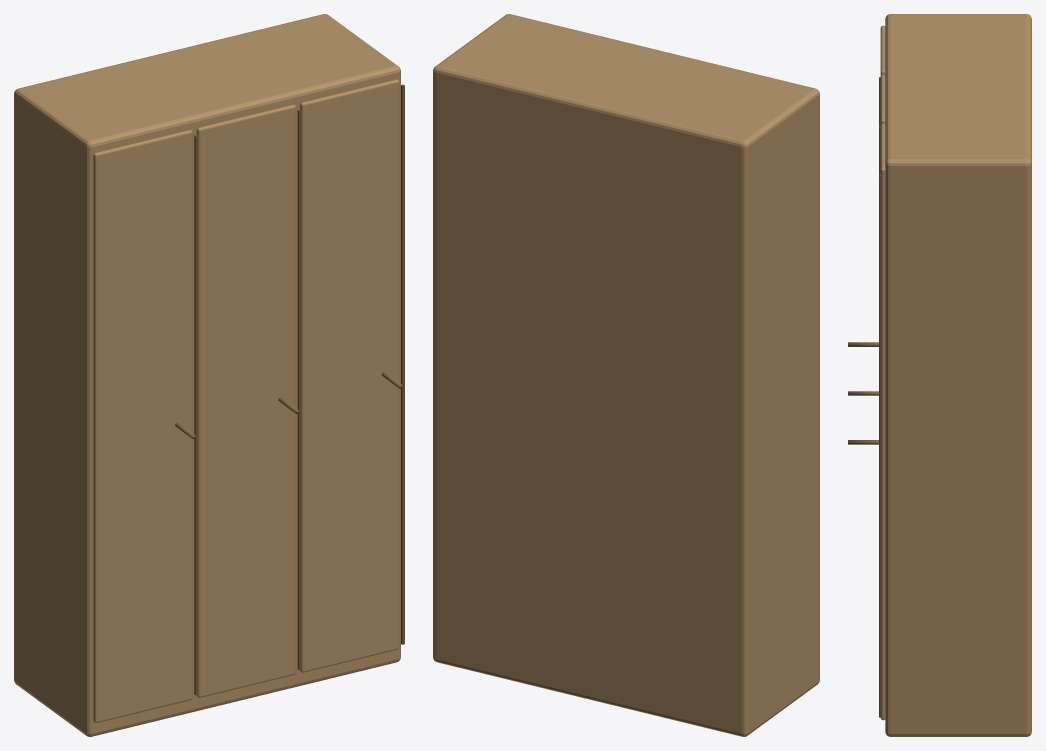
File: oak-wardrobe.glb
The picture shows the model from 3 angles, left to right: view 1: azimuth 30°, elevation 25°; view 2: azimuth 150°, elevation 25°; view 3: azimuth 270°, elevation 25°; orthographic projection. The views are drawn at different scales.
Parts seen in each view (by area): view 1: Wardrobe carcass; view 2: Wardrobe carcass; view 3: Wardrobe carcass.
Part boxes in pixels (<box>): Wardrobe carcass: <box>14,14,404,736</box>; Wardrobe carcass: <box>433,14,819,736</box>; Wardrobe carcass: <box>848,14,1031,736</box>.
Size of the model in its own units: 1.25 by 2.26 by 0.652.
